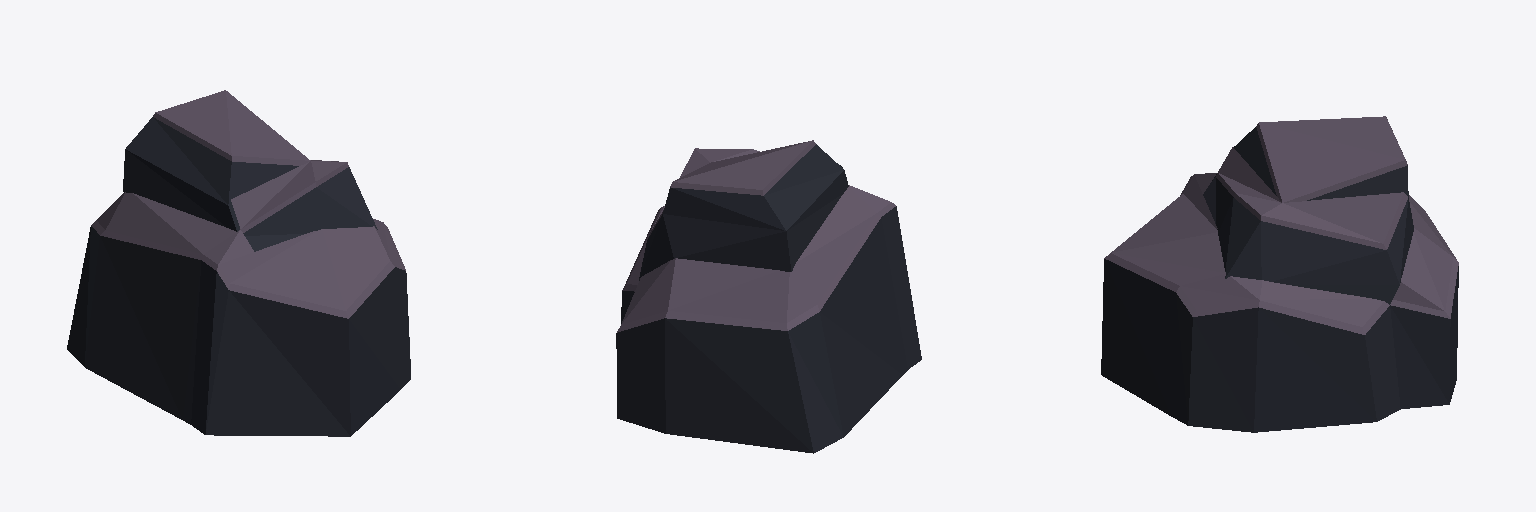
File: Rock_Snow_7.obj
The picture shows the model from 3 angles: view 1: azimuth 30°, elevation 25°; view 2: azimuth 150°, elevation 25°; view 3: azimuth 270°, elevation 25°; orthographic projection.
Visible parts, largest first — view 1: Rock_Snow_7_Cube.074; view 2: Rock_Snow_7_Cube.074; view 3: Rock_Snow_7_Cube.074.
Boxes of the visible parts, x1,y1,x2,y2 form: Rock_Snow_7_Cube.074: [67, 90, 410, 436]; Rock_Snow_7_Cube.074: [616, 140, 921, 453]; Rock_Snow_7_Cube.074: [1101, 116, 1458, 432].
Size of the model in its own units: 0.8755 by 0.7893 by 1.1.